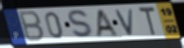0: (44, 11, 66, 41)
A: (95, 9, 120, 39)
B: (18, 10, 46, 43)
S: (67, 9, 97, 41)
T: (137, 6, 158, 38)
V: (114, 8, 136, 37)
